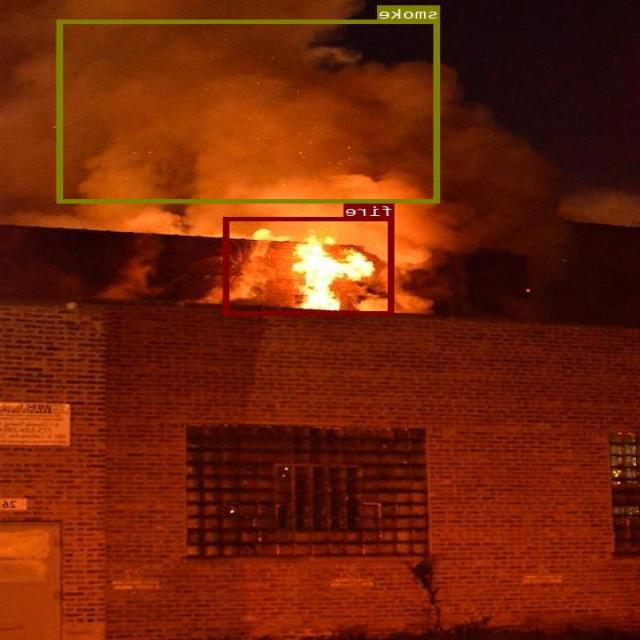fire: (225, 216, 395, 314)
smoke: (59, 19, 440, 202)
